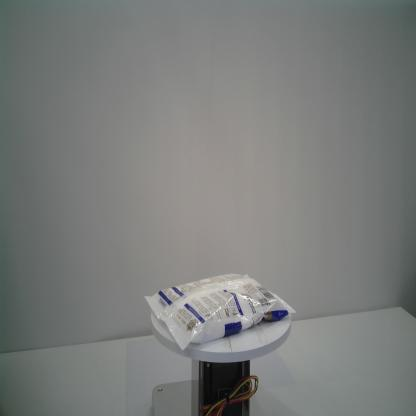Seasoner: (145, 272, 298, 352)
